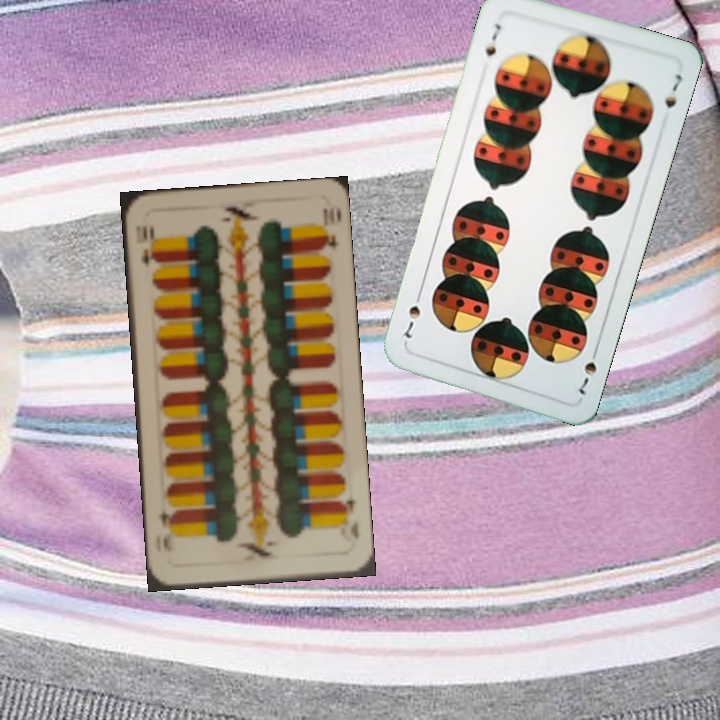E10: (335, 494, 361, 542), (136, 221, 159, 270)
S7: (574, 343, 601, 398), (481, 19, 504, 59)
